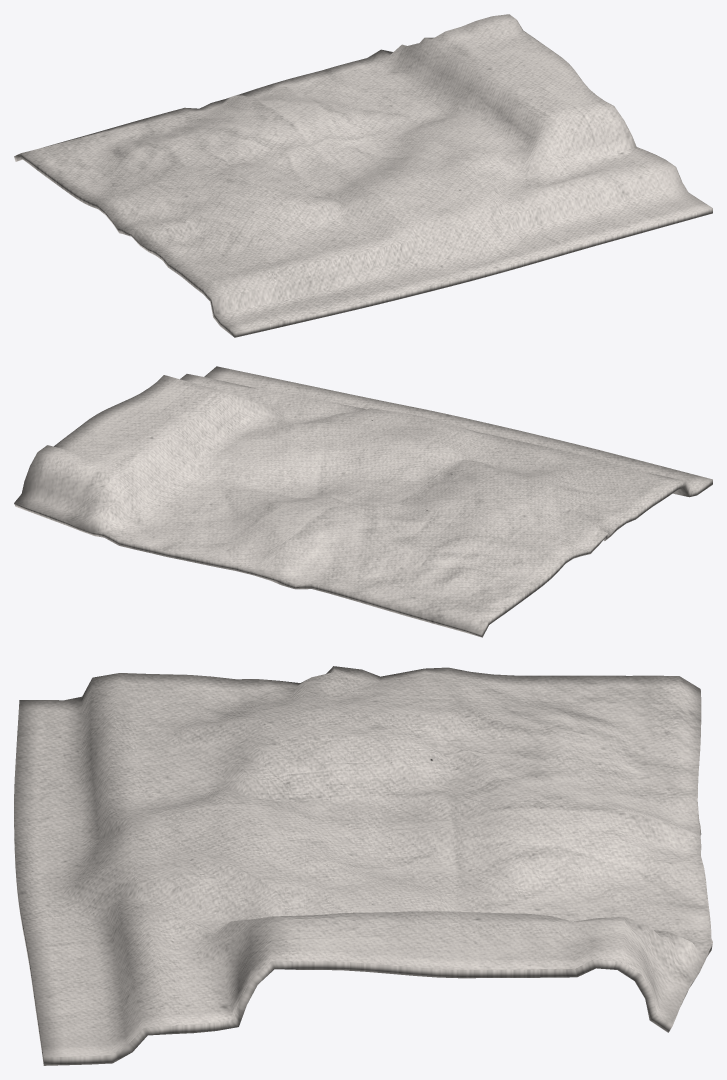
The model's file is blanket.gltf.
3 renders of one model, top to bottom at view 1: azimuth 30°, elevation 25°; view 2: azimuth 150°, elevation 25°; view 3: azimuth 270°, elevation 25°, orthographic. The views are drawn at different scales.
Visible parts, largest first — view 1: Grid; view 2: Grid; view 3: Grid.
Boxes of the visible parts, x1=… form: Grid: x1=14, y1=14, x2=712, y2=337; Grid: x1=14, y1=366, x2=712, y2=637; Grid: x1=14, y1=666, x2=712, y2=1065.
Bounding box in the file's own units: 1.75 × 0.2199 × 1.45.
Materials: 1 (1 with a texture image).
